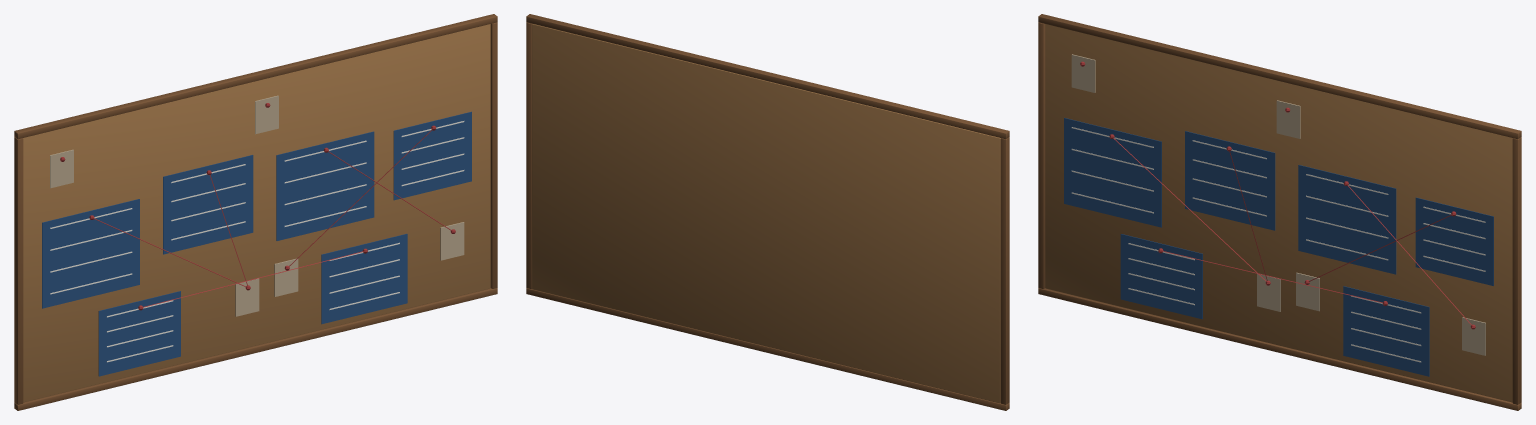
Rendered from mae_plans_board.glb.
The picture shows the model from 3 angles, left to right: view 1: azimuth 30°, elevation 25°; view 2: azimuth 150°, elevation 25°; view 3: azimuth 330°, elevation 25°; orthographic projection.
Parts seen in each view (by area): view 1: mae_plans_board; view 2: mae_plans_board; view 3: mae_plans_board.
Part boxes in pixels (<box>): mae_plans_board: <box>14,14,497,410</box>; mae_plans_board: <box>526,14,1009,410</box>; mae_plans_board: <box>1038,14,1521,410</box>.
Bounding box in the file's own units: 2.46 × 1.36 × 0.047.
